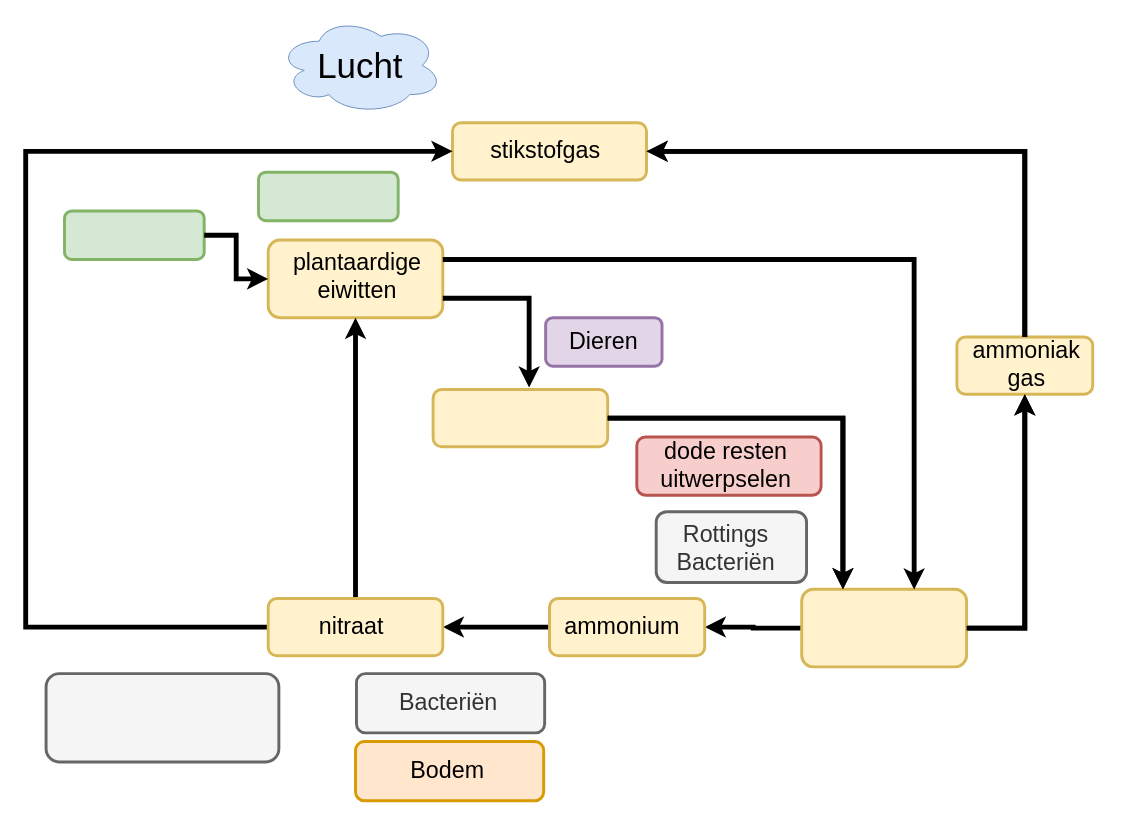
This 1126x819 diagram has some shape labels left out. Each missing label, with the centre of its shape:
"dierlijke eiwitten" goes at pixel 520 418.
"eiwitten" goes at pixel 884 627.
"Glucose" goes at pixel 134 234.
"Planten" goes at pixel 328 196.
"Stikstofbindende Bacteriën" goes at pixel 162 717.
